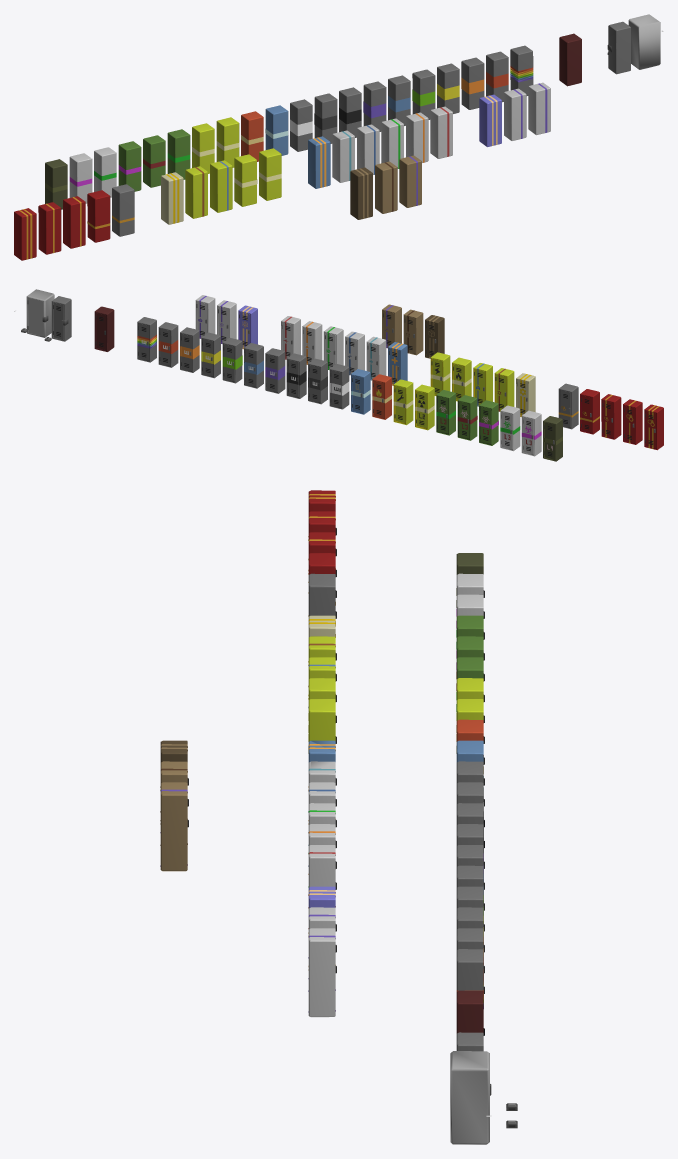
Rendered from Lockers.fbx.
3 views of the same model, one above another, from view 1: azimuth 30°, elevation 25°; view 2: azimuth 150°, elevation 25°; view 3: azimuth 270°, elevation 25° (orthographic). The views are drawn at different scales.
Visible parts, largest first — view 1: Freezer, LockerArmory, LockerWarden, LockerEngineeringWelding, LockerRD, LockerMining, LockerQM, LockerHOS, LockerScience, LockerSurgery, LockerEngineeringElectrical, LockerEvidence (+33 smaller); view 2: Freezer, LockerTools, LockerWardrobeRed, LockerBiohazardSecurity, LockerSecurity, LockerSyndicate, LockerWardrobeWhite, FreezerDoor, LockerWardrobeGreen, LockerCargo, LockerBiohazardScience, LockerWardrobePurple (+78 smaller); view 3: Freezer, LockerMining, LockerRobotics, LockerWardrobeRainbow, LockerEvidence, LockerEngineeringElectrical, LockerSyndicate, LockerSurgery.
Boxes of the visible parts, x1,y1,x2,y2 form: Freezer: [628, 14, 660, 69]; LockerArmory: [87, 190, 110, 242]; LockerWarden: [38, 202, 61, 254]; LockerEngineeringWelding: [234, 154, 257, 206]; LockerRD: [479, 94, 501, 147]; LockerMining: [399, 155, 421, 207]; LockerQM: [350, 167, 372, 219]; LockerHOS: [14, 208, 36, 260]; LockerScience: [504, 88, 526, 140]; LockerSurgery: [430, 106, 452, 158]; LockerEngineeringElectrical: [259, 148, 281, 200]; LockerEvidence: [112, 184, 134, 236]; Freezer: [26, 289, 54, 337]; LockerTools: [393, 379, 413, 425]; LockerWardrobeRed: [158, 322, 178, 367]; LockerBiohazardSecurity: [457, 395, 477, 440]; LockerSecurity: [601, 394, 621, 439]; LockerSyndicate: [94, 306, 114, 351]; LockerWardrobeWhite: [329, 364, 349, 409]; FreezerDoor: [28, 297, 43, 336]; LockerWardrobeGreen: [222, 338, 242, 383]; LockerCargo: [403, 309, 423, 355]; LockerBiohazardScience: [521, 410, 541, 456]; LockerWardrobePurple: [265, 348, 285, 393]; Freezer: [450, 1051, 489, 1144]; LockerMining: [160, 782, 187, 871]; LockerRobotics: [308, 928, 335, 1017]; LockerWardrobeRainbow: [456, 949, 483, 1008]; LockerEvidence: [308, 573, 335, 637]; LockerEngineeringElectrical: [308, 699, 335, 753]; LockerSyndicate: [456, 990, 483, 1033]; LockerSurgery: [308, 845, 335, 928].
Size of the model in its own units: 28.31 by 1.72 by 7.24.
